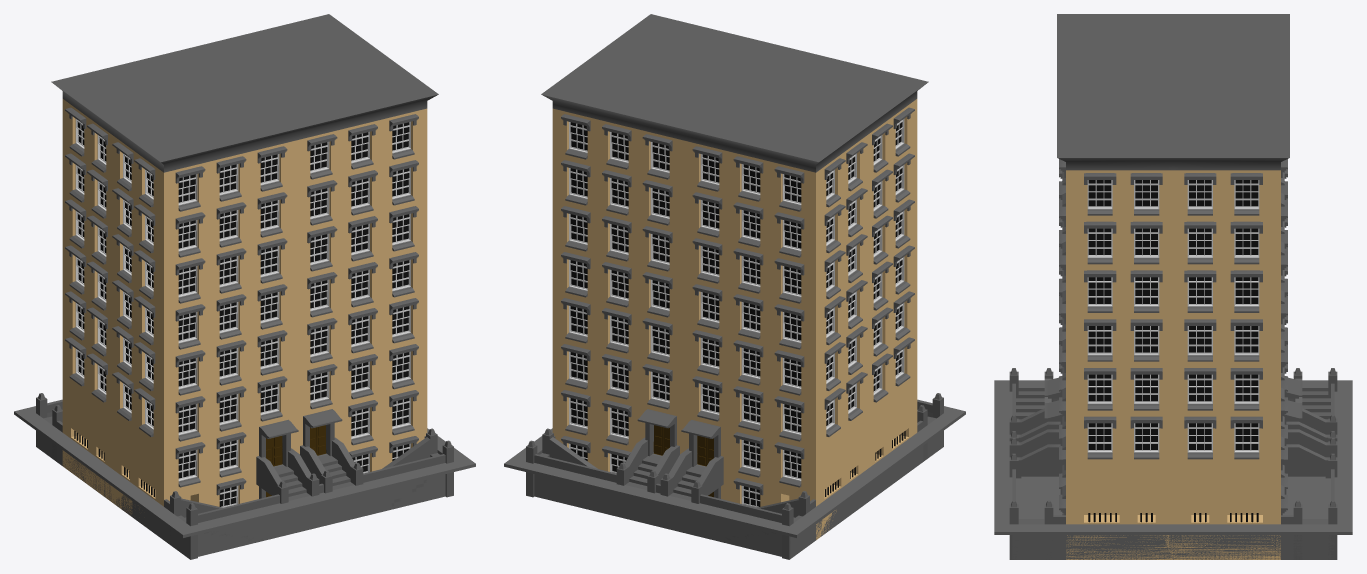
File: 2x2_Residential_6_Storey_Apartment.fbx
3 views of the same model, side by side, from view 1: azimuth 30°, elevation 25°; view 2: azimuth 150°, elevation 25°; view 3: azimuth 270°, elevation 25° (orthographic). The views are drawn at different scales.
Parts seen in each view (by area): view 1: 2x2 Residential 6_Storey_Apartment; view 2: 2x2 Residential 6_Storey_Apartment; view 3: 2x2 Residential 6_Storey_Apartment.
Part boxes in pixels (x1,y1,x2,y2): 2x2 Residential 6_Storey_Apartment: (14, 14, 475, 559); 2x2 Residential 6_Storey_Apartment: (504, 14, 965, 559); 2x2 Residential 6_Storey_Apartment: (994, 14, 1352, 559).
Bounding box in the file's own units: 2 × 2.5 × 2.
